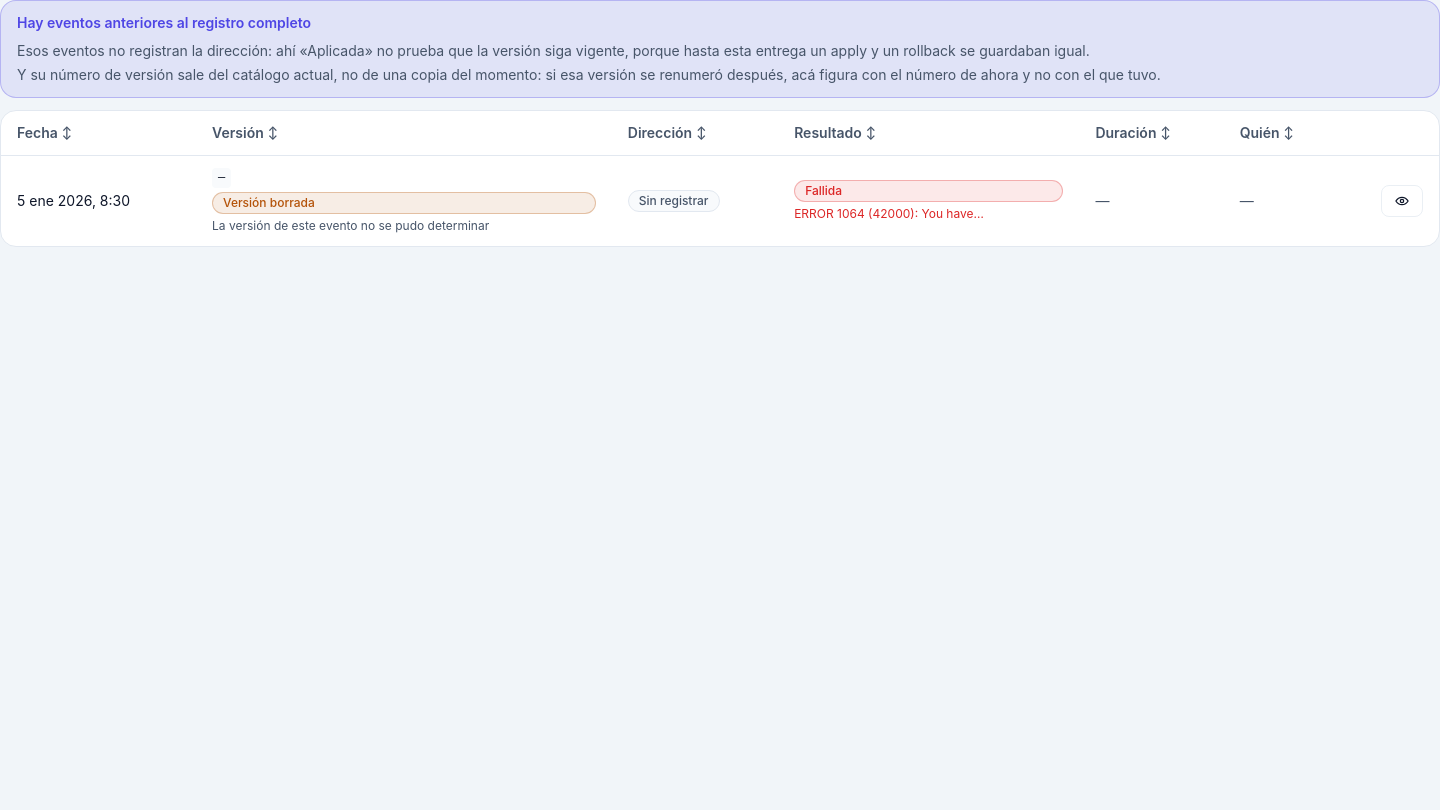
Test case: MigrationHistoryPanel › el detalle de una fila antigua se abre sin huecos rotos
The image size is (1440, 810).
Click the button named "Ver detalle" at (1402, 201), box 1381,185 -> 1423,217
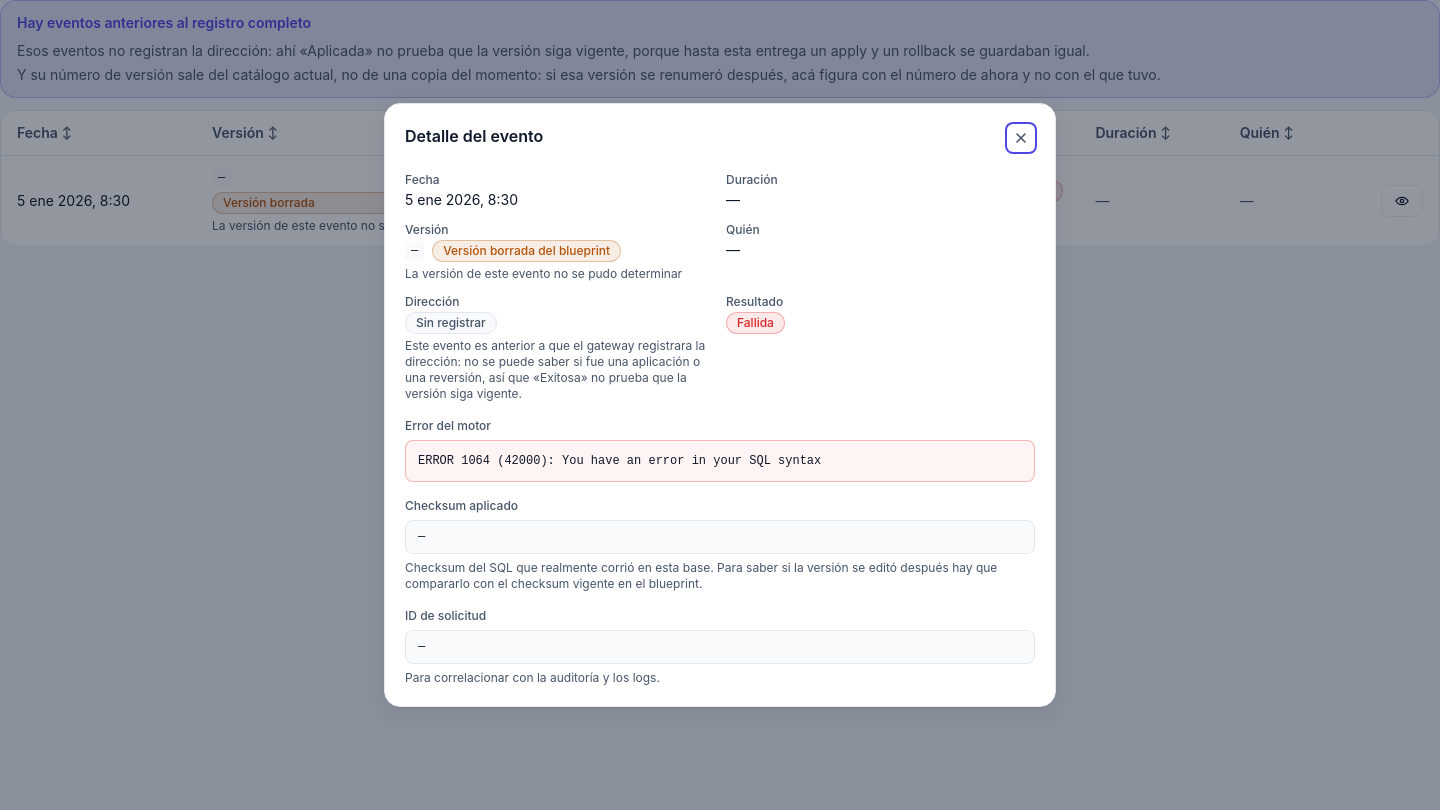
Expected: the heading "Detalle del evento" is shown, 405,124 -> 543,148
Expected: the text "ERROR 1064 (42000): You have an error in your SQL syntax" is shown, 405,440 -> 1035,482
Expected: the text "Checksum aplicado" is shown, 405,498 -> 518,513
